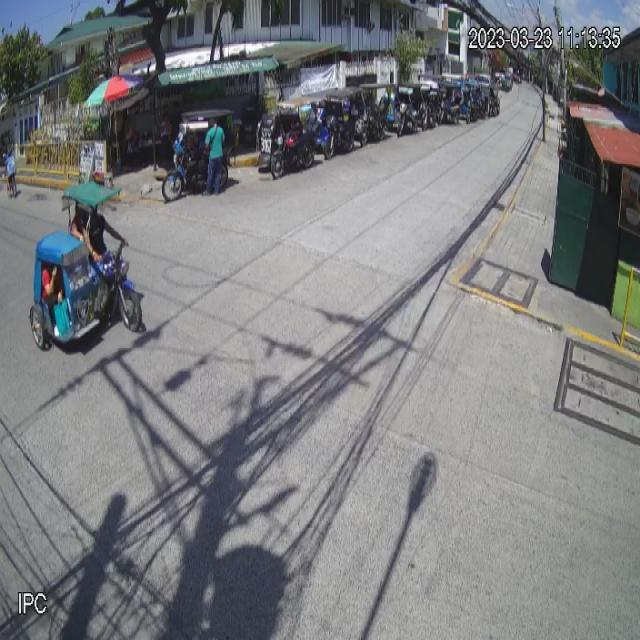Tricycle: (30, 182, 142, 352)
